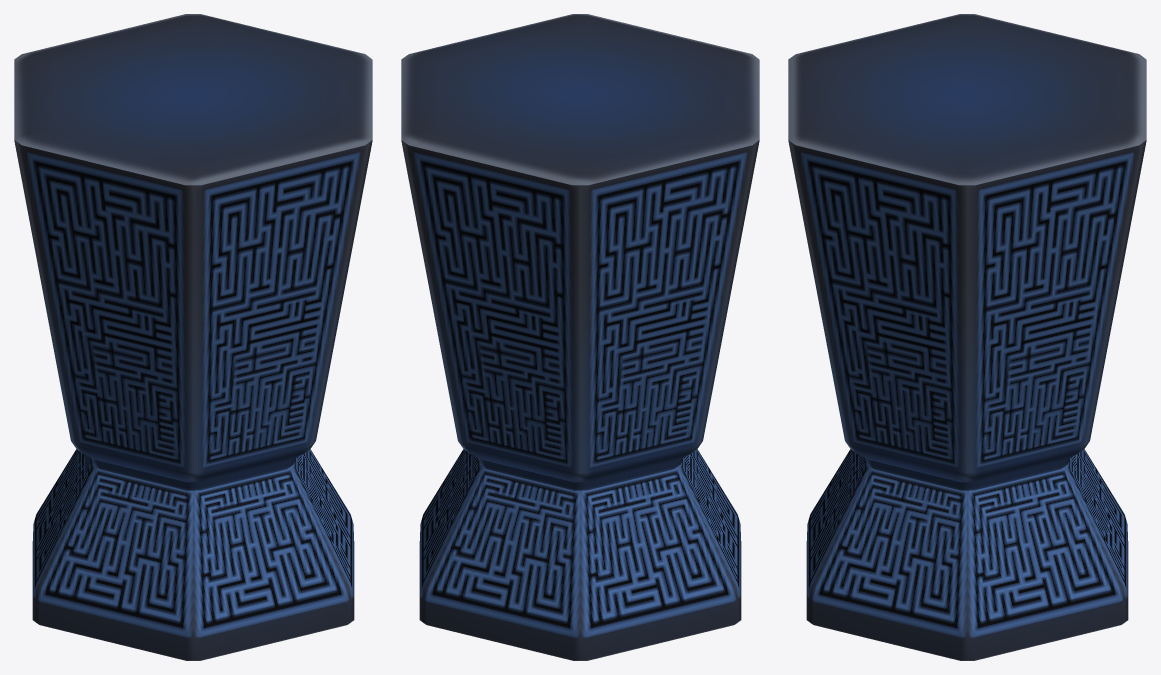
The model's file is Monolith_all.fbx.
3 renders of one model, left to right at view 1: azimuth 30°, elevation 25°; view 2: azimuth 150°, elevation 25°; view 3: azimuth 270°, elevation 25°, orthographic.
Visible parts, largest first — view 1: Monolith_02, Monolith_01, Monolith_Cap, Monolith_06, Monolith_03; view 2: Monolith_04, Monolith_03, Monolith_Cap, Monolith_02, Monolith_05; view 3: Monolith_06, Monolith_05, Monolith_Cap, Monolith_04, Monolith_01.
Boxes of the visible parts, x1,y1,x2,y2 form: Monolith_02: [18, 143, 193, 660]; Monolith_01: [193, 143, 368, 660]; Monolith_Cap: [14, 14, 372, 185]; Monolith_06: [290, 140, 372, 622]; Monolith_03: [14, 140, 96, 622]; Monolith_04: [405, 143, 580, 660]; Monolith_03: [580, 143, 755, 660]; Monolith_Cap: [401, 14, 759, 185]; Monolith_02: [677, 140, 759, 622]; Monolith_05: [401, 140, 483, 622]; Monolith_06: [792, 143, 967, 660]; Monolith_05: [967, 143, 1142, 660]; Monolith_Cap: [788, 14, 1146, 185]; Monolith_04: [1064, 140, 1146, 622]; Monolith_01: [788, 140, 870, 622].
Size of the model in its own units: 7.63 by 10.14 by 6.75.
